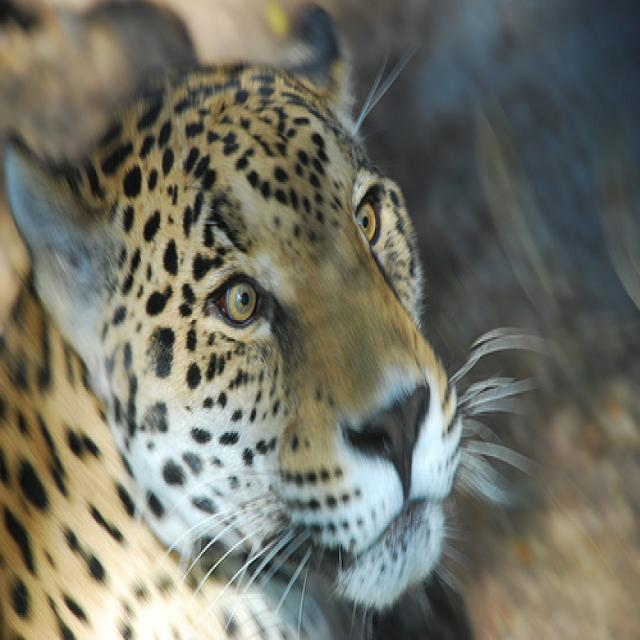Leopard: (0, 2, 562, 636)
